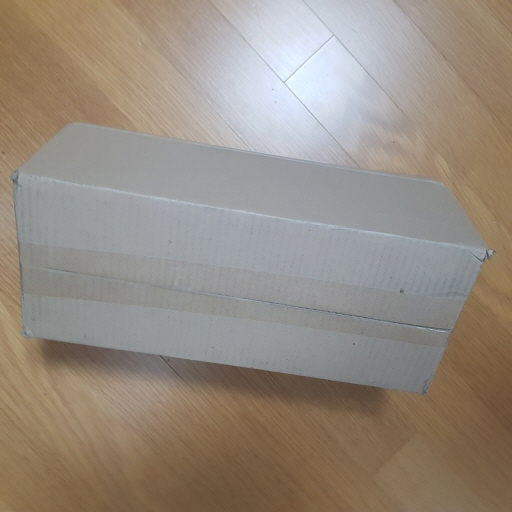Paper_0: (5, 117, 494, 405)
